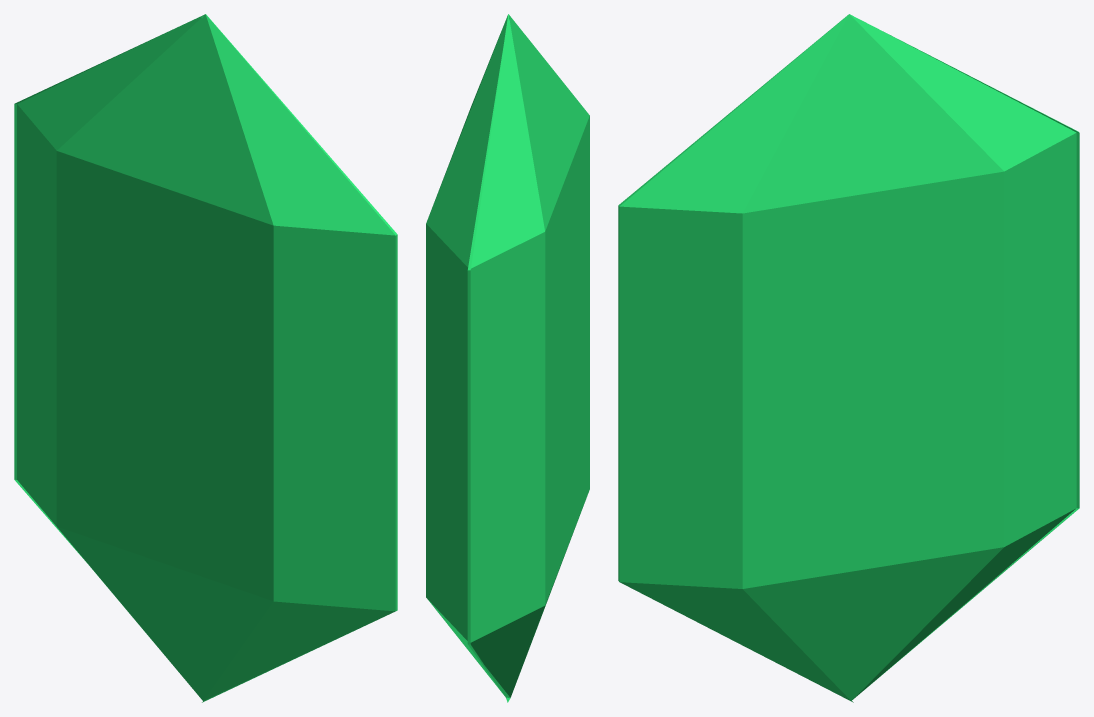
Rendered from treasure2.fbx.
The picture shows the model from 3 angles, left to right: view 1: azimuth 30°, elevation 25°; view 2: azimuth 150°, elevation 25°; view 3: azimuth 270°, elevation 25°; orthographic projection.
Parts seen in each view (by area): view 1: Cube; view 2: Cube; view 3: Cube.
Boxes of the visible parts, x1,y1,x2,y2 form: Cube: (14, 14, 397, 702); Cube: (426, 14, 589, 702); Cube: (618, 14, 1079, 702).
Size of the model in its own units: 56.13 by 201 by 122.
